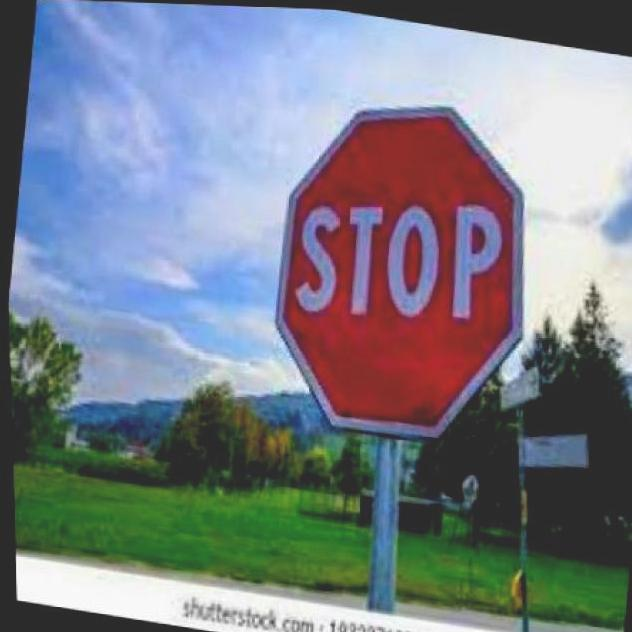stop_sign: (253, 75, 556, 455)
